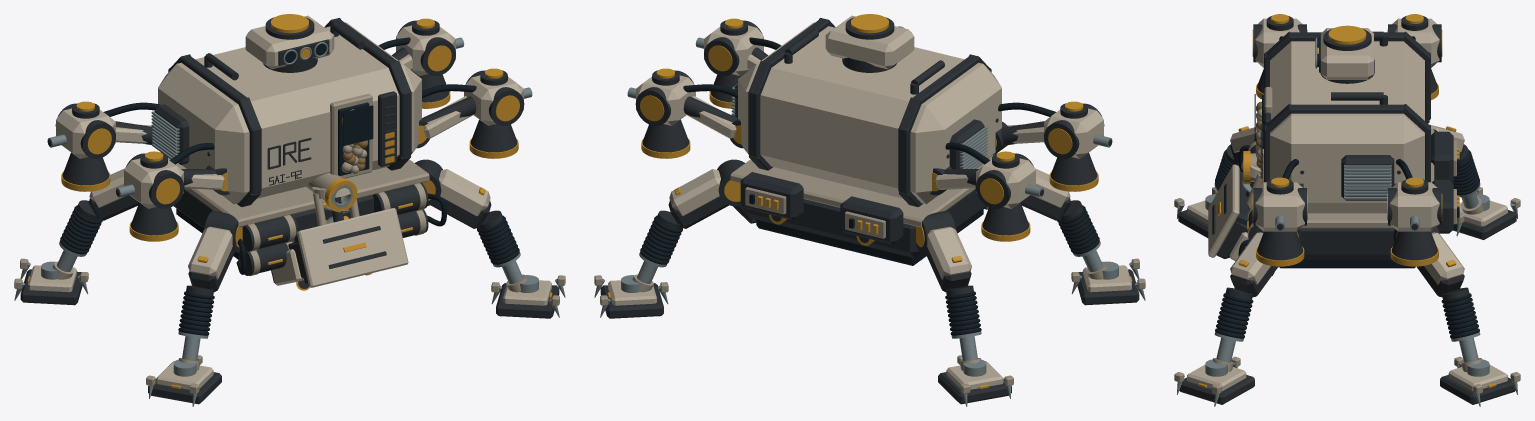
The model's file is sai92_unit_d0_lod0.glb.
3 renders of one model, left to right at view 1: azimuth 30°, elevation 25°; view 2: azimuth 150°, elevation 25°; view 3: azimuth 270°, elevation 25°, orthographic.
Parts seen in each view (by area): view 1: BODY_ORE_TANK_SURFACE, MINING_FRAME, THRUSTER_RL_SURFACE, THRUSTER_FL_SURFACE, THRUSTER_FR_SURFACE, SENSOR_SURFACE, THRUSTER_RR_SURFACE, LEG_FL_UPPER, LEG_FR_UPPER, LEG_FL_FOOT_SURFACE, LEG_RL_FOOT_SURFACE, LEG_FR_FOOT_SURFACE (+12 smaller); view 2: BODY_ORE_TANK_SURFACE, THRUSTER_FL_SURFACE, THRUSTER_RL_SURFACE, THRUSTER_RR_SURFACE, SENSOR_SURFACE, THRUSTER_FR_SURFACE, LEG_RR_UPPER, LEG_RL_UPPER, LEG_RL_FOOT_SURFACE, LEG_FL_FOOT_SURFACE, LEG_RR_FOOT_SURFACE, THRUSTER_RR_BOOM (+7 smaller); view 3: BODY_ORE_TANK_SURFACE, THRUSTER_FR_SURFACE, THRUSTER_RR_SURFACE, SENSOR_SURFACE, MINING_FRAME, LEG_FR_FOOT_SURFACE, LEG_RR_FOOT_SURFACE, LEG_FR_UPPER, LEG_RR_UPPER, THRUSTER_RL_SURFACE, THRUSTER_FL_SURFACE, LEG_RL_FOOT_SURFACE (+15 smaller).
Boxes of the visible parts, x1,y1,x2,y2 form: BODY_ORE_TANK_SURFACE: (151,18,446,275); MINING_FRAME: (271,208,408,287); THRUSTER_RL_SURFACE: (47,101,115,191); THRUSTER_FL_SURFACE: (116,151,184,241); THRUSTER_FR_SURFACE: (464,68,532,158); SENSOR_SURFACE: (245,14,334,72); THRUSTER_RR_SURFACE: (396,18,464,108); LEG_FL_UPPER: (188,211,242,292); LEG_FR_UPPER: (415,159,491,228); LEG_FL_FOOT_SURFACE: (148,359,221,404); LEG_RL_FOOT_SURFACE: (20,261,82,305); LEG_FR_FOOT_SURFACE: (496,275,559,318); BODY_ORE_TANK_SURFACE: (730,18,1001,265); THRUSTER_FL_SURFACE: (1044,101,1112,191); THRUSTER_RL_SURFACE: (975,151,1043,241); THRUSTER_RR_SURFACE: (627,68,695,158); SENSOR_SURFACE: (825,14,914,72); THRUSTER_FR_SURFACE: (695,18,763,108); LEG_RR_UPPER: (668,159,744,228); LEG_RL_UPPER: (915,211,971,292); LEG_RL_FOOT_SURFACE: (938,359,1011,404); LEG_FL_FOOT_SURFACE: (1077,261,1139,305); LEG_RR_FOOT_SURFACE: (600,275,663,318); THRUSTER_RR_BOOM: (683,84,743,148); BODY_ORE_TANK_SURFACE: (1238,31,1459,268); THRUSTER_FR_SURFACE: (1252,177,1307,266); THRUSTER_RR_SURFACE: (1387,177,1442,266); SENSOR_SURFACE: (1315,25,1374,83); MINING_FRAME: (1208,164,1274,275); LEG_FR_FOOT_SURFACE: (1179,359,1254,404); LEG_RR_FOOT_SURFACE: (1440,359,1515,404); LEG_FR_UPPER: (1230,227,1301,297); LEG_RR_UPPER: (1393,227,1464,297); THRUSTER_RL_SURFACE: (1387,14,1442,100); THRUSTER_FL_SURFACE: (1252,14,1307,99); LEG_RL_FOOT_SURFACE: (1453,194,1516,239).
Bounding box in the file's own units: 6.32 × 3.99 × 4.58.
